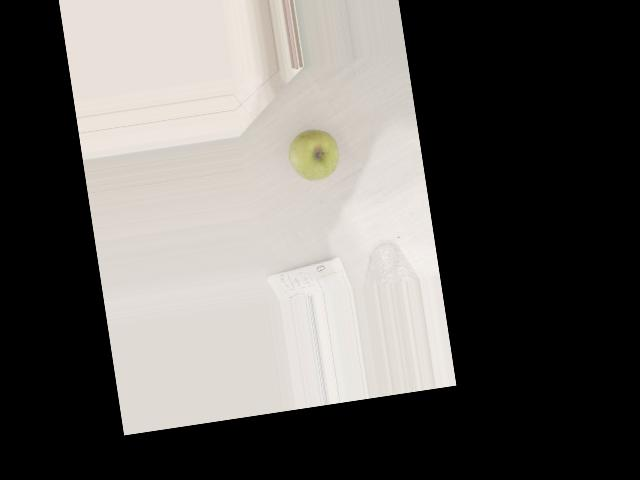apple: (273, 98, 349, 193)
